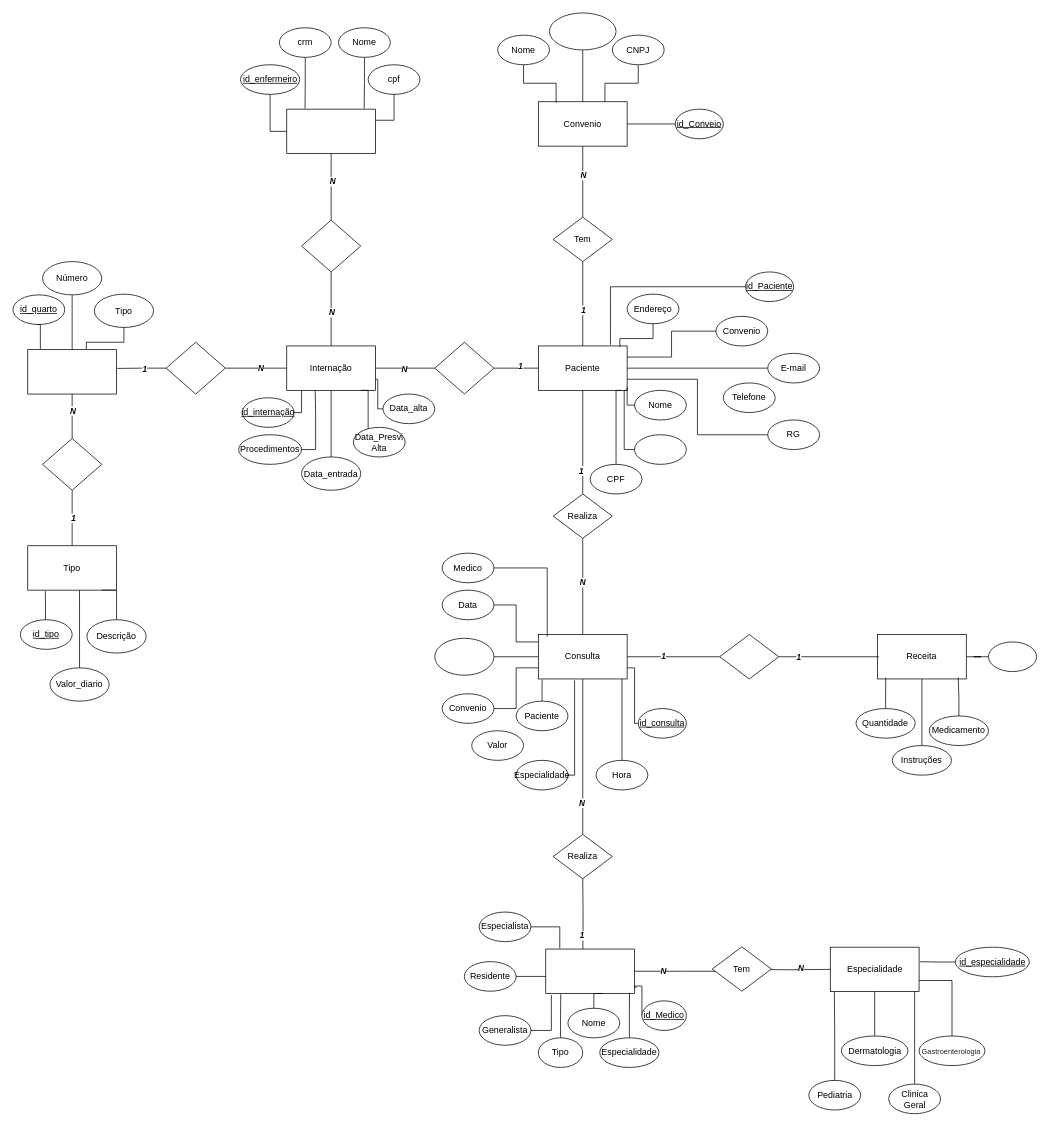
Image size: 1050x1127. Some labels were removed from this diagram. The shapes that lost their labels are listed below. From the top down, each one's centre as x and y in pixels, then its label:
[582,31]: Tempo_Carencia
[331,131]: Enfermeiro
[331,245]: Requer
[72,371]: Quarto
[195,368]: Ocupa
[464,368]: Faz
[72,464]: Possuí
[660,449]: Data_Nasc
[464,656]: Num_Carteira
[749,656]: Gera
[1012,656]: id_receita
[590,970]: Médico
